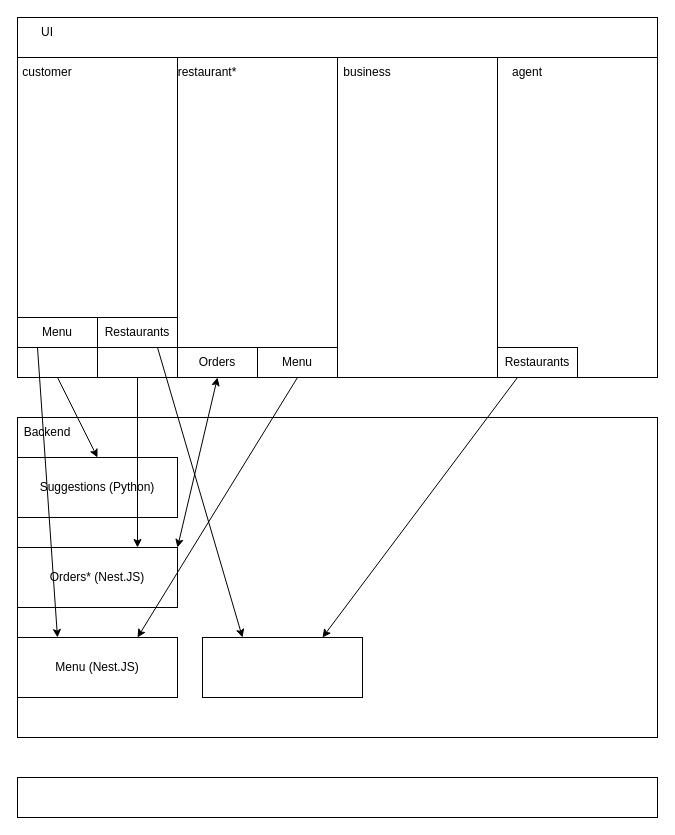
Some shapes in this 675 by 835 pixel diagram are drawn without their labels. The shapes that lost their labels are listed below. From the top down, each one's box as (x1, y1, x2, y2) in pixels, then its label:
(16, 346, 98, 378): Feed
(96, 346, 178, 378): Order
(202, 636, 362, 698): Restaurants (Nest.JS)
(16, 776, 658, 818): * — uses different version of a framework
